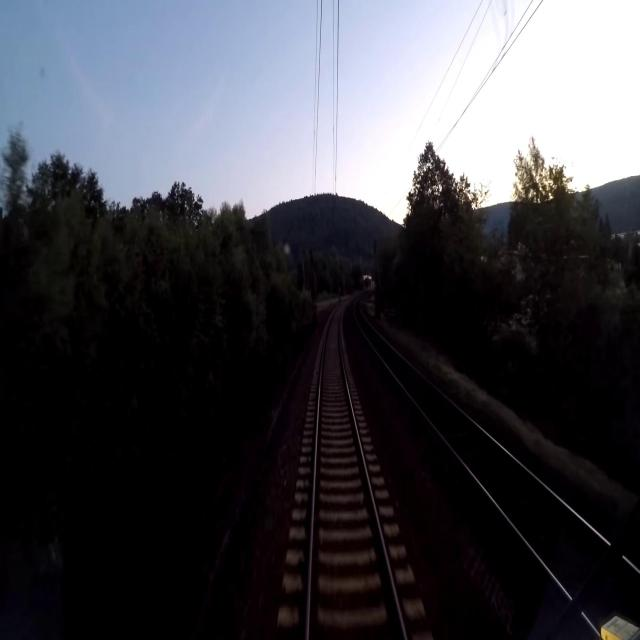rail-track: (356, 302, 602, 585), (309, 303, 403, 639)
